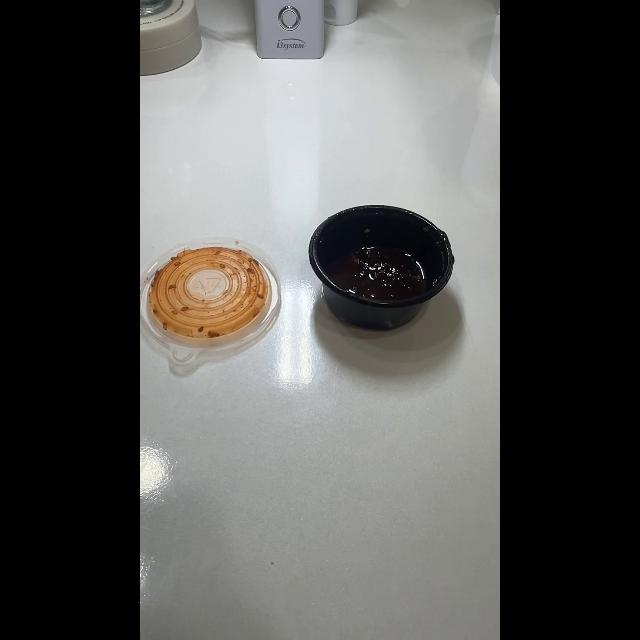dirty: (308, 204, 454, 332), (148, 246, 270, 340)
